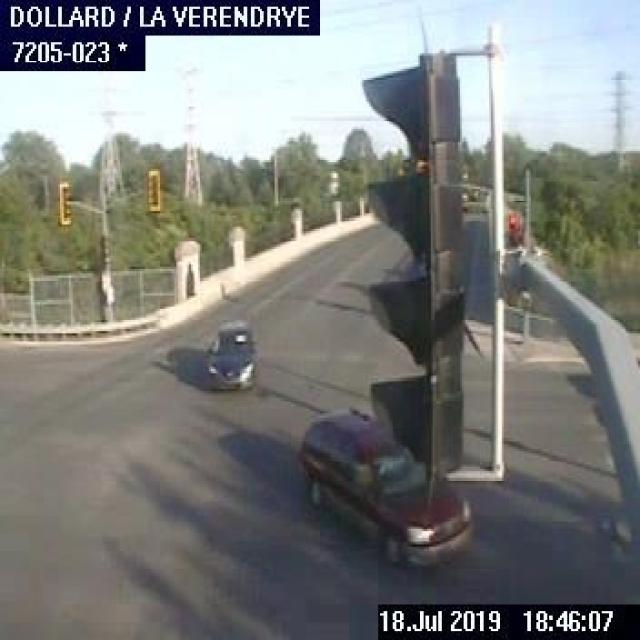vehicle: (298, 406, 475, 566), (204, 320, 260, 391)
